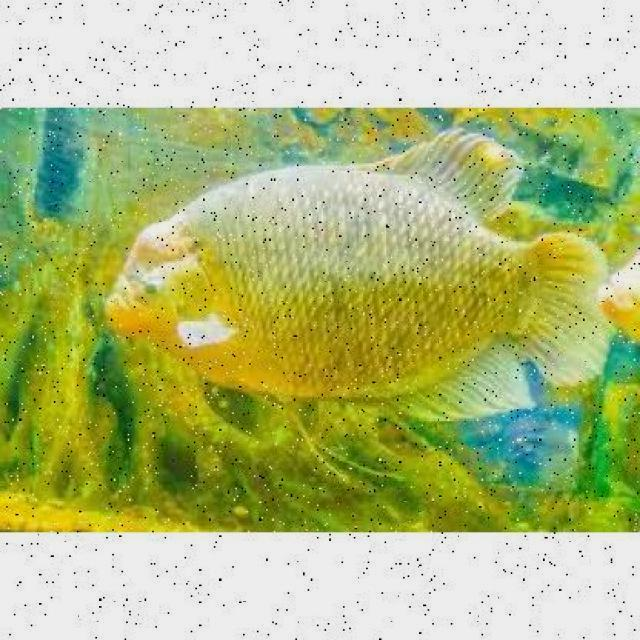gurame: (104, 140, 604, 414)
